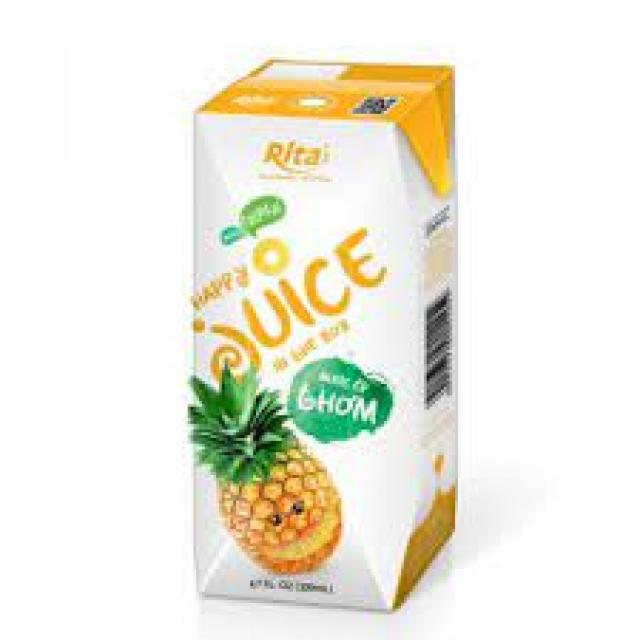non_white_jug: (135, 34, 468, 612)
